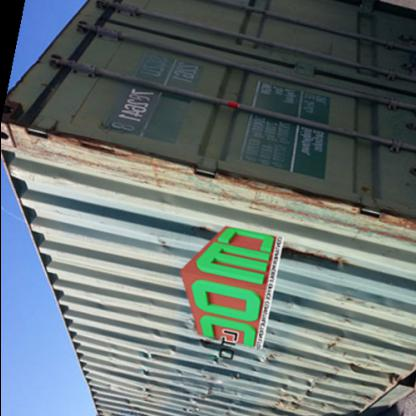Damage: (174, 352, 238, 412), (267, 372, 330, 415), (337, 354, 400, 386), (132, 346, 162, 404), (260, 248, 336, 260), (147, 227, 170, 257)
